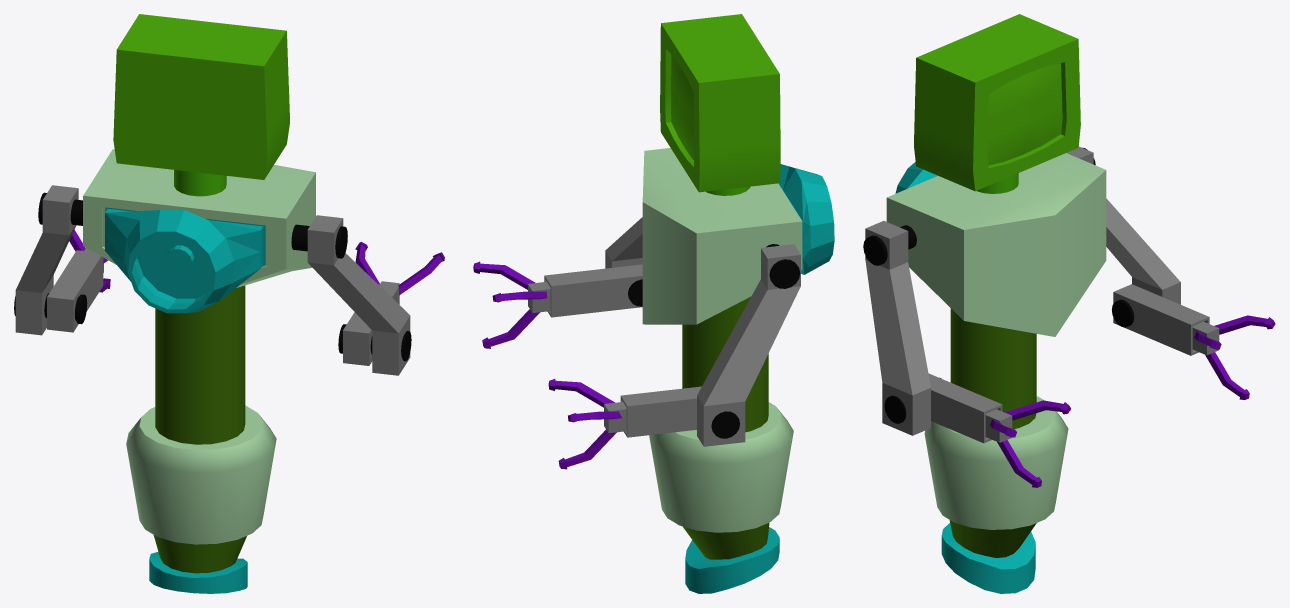
Rendered from Player Model.fbx.
3 views of the same model, side by side, from view 1: azimuth 30°, elevation 25°; view 2: azimuth 150°, elevation 25°; view 3: azimuth 270°, elevation 25° (orthographic). The views are drawn at different scales.
Parts seen in each view (by area): view 1: PlayerChar_MDL_001:pCube1, PlayerChar_MDL_001:pCylinder3, PlayerChar_MDL_001:polySurface1, PlayerChar_MDL_001:polySurface2, PlayerChar_MDL_001:pCylinder2, PlayerChar_MDL_001:Forearm, PlayerChar_MDL_001:Forearm1, PlayerChar_MDL_001:Hand, PlayerChar_MDL_001:pCylinder5, PlayerChar_MDL_001:pCylinder4, PlayerChar_MDL_001:Hand1, PlayerChar_MDL_001:pCylinder1 (+1 smaller); view 2: PlayerChar_MDL_001:polySurface2, PlayerChar_MDL_001:pCube1, PlayerChar_MDL_001:pCylinder3, PlayerChar_MDL_001:Forearm1, PlayerChar_MDL_001:Hand1, PlayerChar_MDL_001:pCylinder2, PlayerChar_MDL_001:Hand, PlayerChar_MDL_001:polySurface1, PlayerChar_MDL_001:pCylinder5, PlayerChar_MDL_001:pCylinder4, PlayerChar_MDL_001:Forearm, PlayerChar_MDL_001:Shoulder_Gear (+5 smaller); view 3: PlayerChar_MDL_001:polySurface2, PlayerChar_MDL_001:pCube1, PlayerChar_MDL_001:pCylinder3, PlayerChar_MDL_001:Forearm, PlayerChar_MDL_001:pCylinder2, PlayerChar_MDL_001:Hand, PlayerChar_MDL_001:pCylinder5, PlayerChar_MDL_001:Forearm1, PlayerChar_MDL_001:Hand1, PlayerChar_MDL_001:pCylinder4, PlayerChar_MDL_001:Shoulder_Gear1, PlayerChar_MDL_001:pCube8 (+4 smaller).
Boxes of the visible parts, x1=… form: PlayerChar_MDL_001:pCube1: x1=113, y1=14, x2=289, y2=179; PlayerChar_MDL_001:pCylinder3: x1=126, y1=405, x2=276, y2=544; PlayerChar_MDL_001:polySurface1: x1=105, y1=207, x2=265, y2=313; PlayerChar_MDL_001:polySurface2: x1=83, y1=149, x2=315, y2=287; PlayerChar_MDL_001:pCylinder2: x1=155, y1=285, x2=245, y2=444; PlayerChar_MDL_001:Forearm: x1=307, y1=215, x2=410, y2=375; PlayerChar_MDL_001:Forearm1: x1=15, y1=185, x2=78, y2=335; PlayerChar_MDL_001:Hand: x1=47, y1=248, x2=103, y2=332; PlayerChar_MDL_001:pCylinder5: x1=149, y1=552, x2=247, y2=593; PlayerChar_MDL_001:pCylinder4: x1=153, y1=535, x2=246, y2=573; PlayerChar_MDL_001:Hand1: x1=343, y1=281, x2=399, y2=365; PlayerChar_MDL_001:pCylinder1: x1=174, y1=170, x2=226, y2=196; PlayerChar_MDL_001:polySurface2: x1=642, y1=148, x2=802, y2=324; PlayerChar_MDL_001:pCube1: x1=660, y1=14, x2=780, y2=192; PlayerChar_MDL_001:pCylinder3: x1=649, y1=402, x2=793, y2=532; PlayerChar_MDL_001:Forearm1: x1=697, y1=244, x2=800, y2=446; PlayerChar_MDL_001:Hand1: x1=528, y1=264, x2=642, y2=317; PlayerChar_MDL_001:pCylinder2: x1=682, y1=296, x2=768, y2=432; PlayerChar_MDL_001:Hand: x1=604, y1=386, x2=701, y2=437; PlayerChar_MDL_001:polySurface1: x1=778, y1=164, x2=834, y2=274; PlayerChar_MDL_001:pCylinder5: x1=685, y1=527, x2=779, y2=593; PlayerChar_MDL_001:pCylinder4: x1=682, y1=523, x2=769, y2=559; PlayerChar_MDL_001:Forearm: x1=605, y1=217, x2=642, y2=268; PlayerChar_MDL_001:Shoulder_Gear: x1=766, y1=244, x2=800, y2=288; PlayerChar_MDL_001:polySurface2: x1=886, y1=153, x2=1106, y2=336; PlayerChar_MDL_001:pCube1: x1=914, y1=14, x2=1080, y2=191; PlayerChar_MDL_001:pCylinder3: x1=924, y1=396, x2=1068, y2=529; PlayerChar_MDL_001:Forearm: x1=865, y1=221, x2=930, y2=435; PlayerChar_MDL_001:pCylinder2: x1=950, y1=308, x2=1036, y2=428; PlayerChar_MDL_001:Hand: x1=1113, y1=284, x2=1219, y2=355; PlayerChar_MDL_001:pCylinder5: x1=941, y1=523, x2=1035, y2=593; PlayerChar_MDL_001:Forearm1: x1=1067, y1=146, x2=1180, y2=304; PlayerChar_MDL_001:Hand1: x1=928, y1=373, x2=1012, y2=443; PlayerChar_MDL_001:pCylinder4: x1=949, y1=520, x2=1036, y2=557; PlayerChar_MDL_001:Shoulder_Gear1: x1=863, y1=225, x2=916, y2=265; PlayerChar_MDL_001:pCube8: x1=1005, y1=400, x2=1070, y2=420.
Size of the model in its own units: 105 by 150 by 105.
